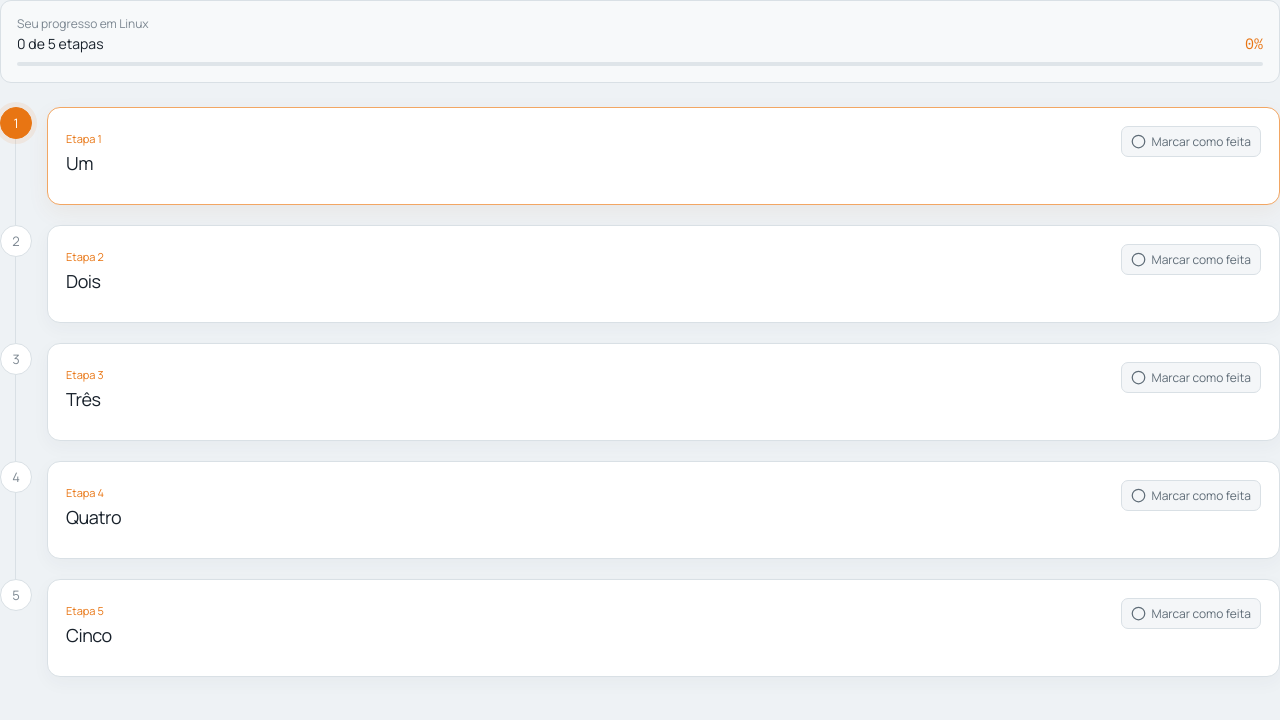
Timeline › avisa quando o usuário tenta pular uma etapa
This screenshot has width=1280, height=720.
Click the button "Marcar como feita" in the row of "Um". click: (1191, 142)
box: [1120,126,1261,157]
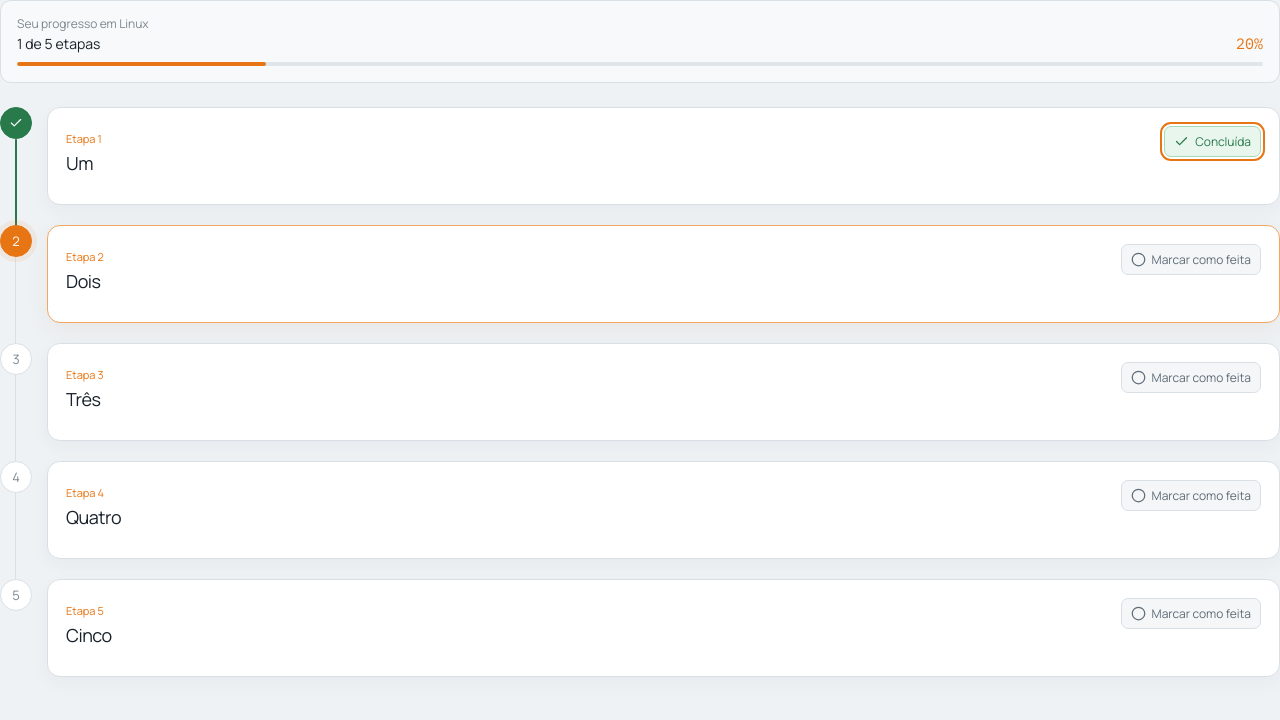
Click the button "Marcar como feita" in the row of "Dois". click: (1191, 260)
box: [1120,244,1261,275]
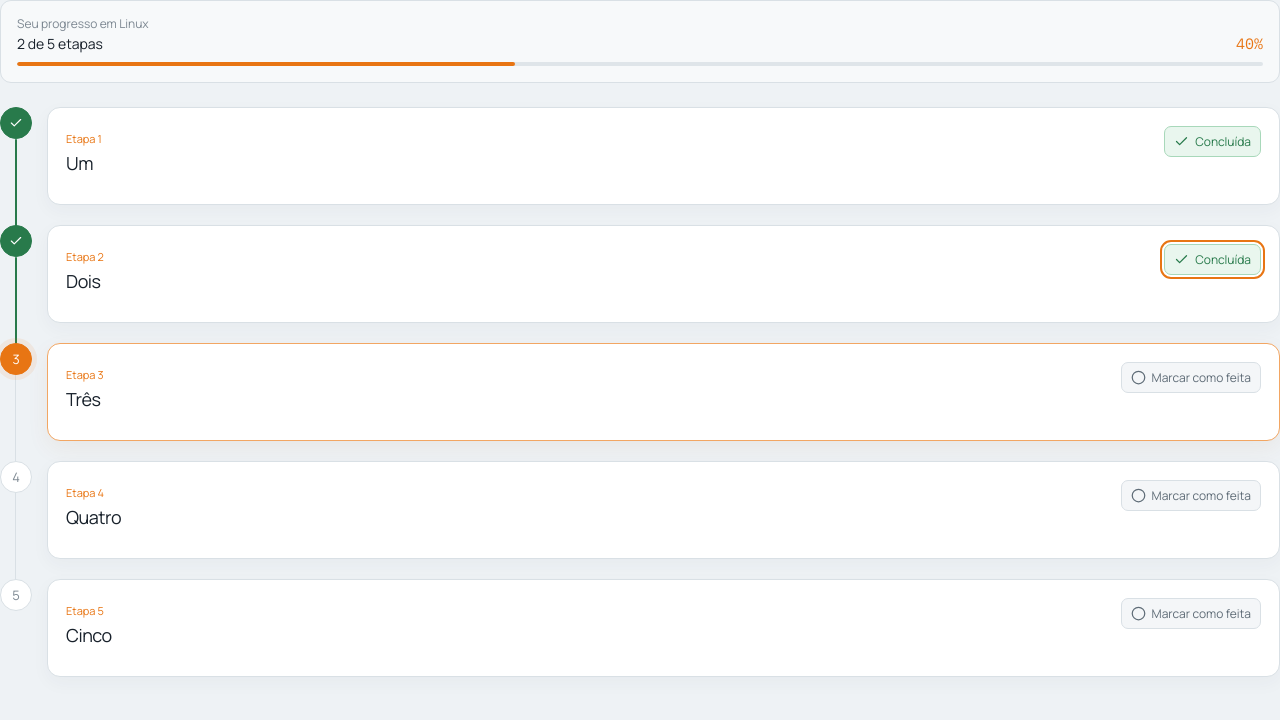
Click the button "Marcar como feita" in the row of "Quatro". click: (1191, 496)
box: [1120,480,1261,511]
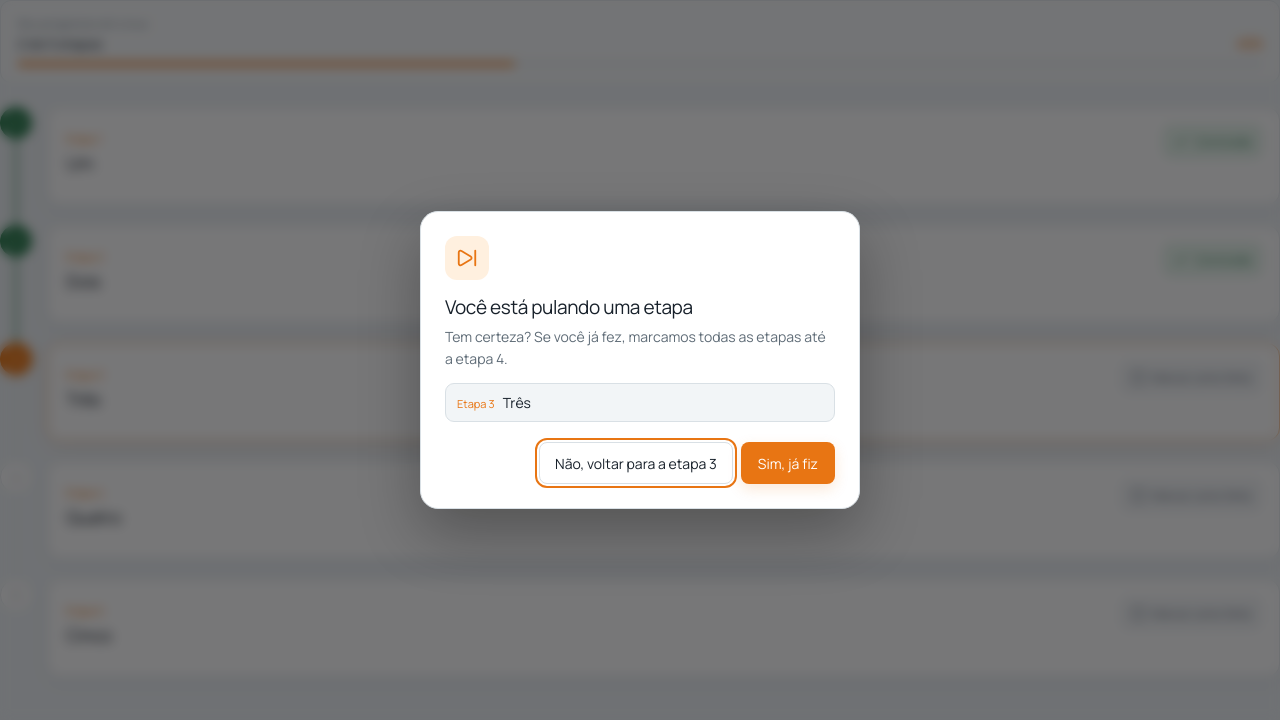
Now the list item "Três" is shown, box [503,393,531,412]
